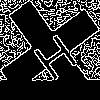H: (25, 25, 81, 83)
